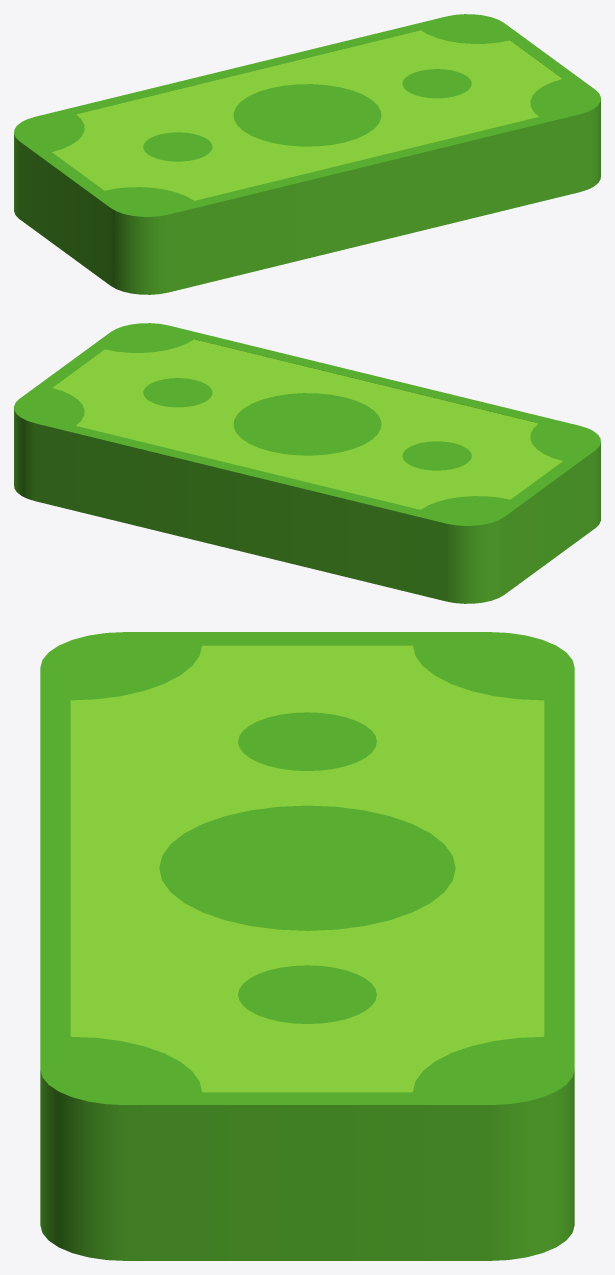
The model's file is money_1.fbx.
3 views of the same model, one above another, from view 1: azimuth 30°, elevation 25°; view 2: azimuth 150°, elevation 25°; view 3: azimuth 270°, elevation 25° (orthographic). The views are drawn at different scales.
Visible parts, largest first — view 1: money_1; view 2: money_1; view 3: money_1.
Part boxes in pixels (<box>): money_1: <box>14,14,600,294</box>; money_1: <box>14,323,600,603</box>; money_1: <box>40,632,574,1260</box>.
Bounding box in the file's own units: 4.19 × 0.6462 × 2.
